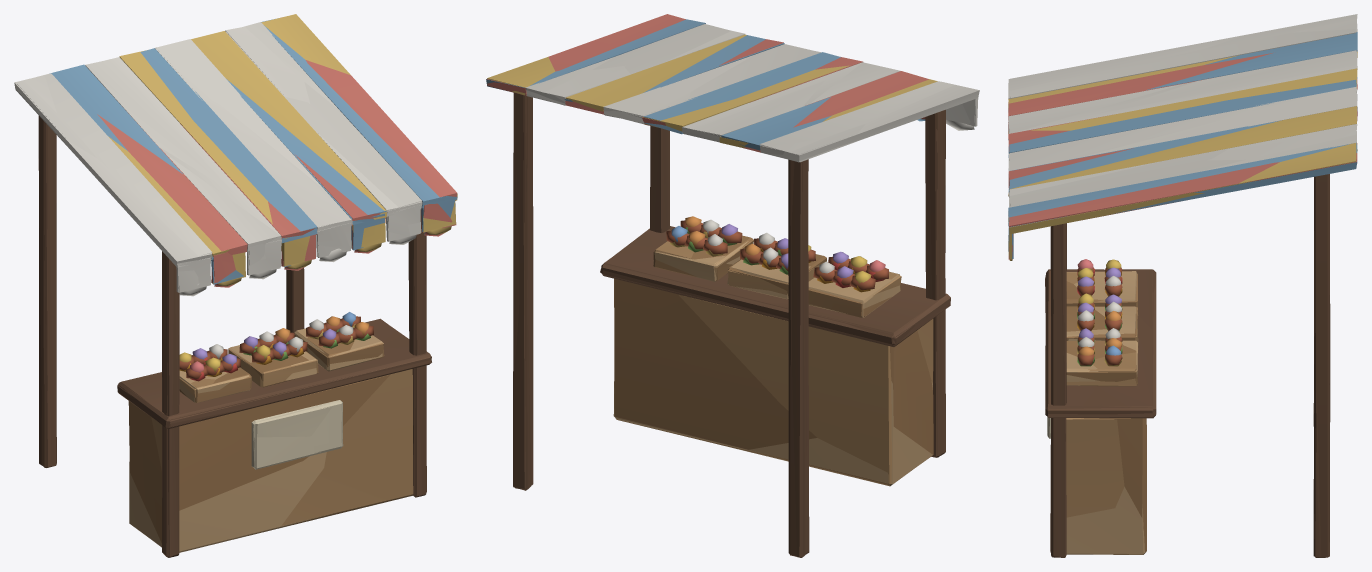
File: market_stall.glb
The picture shows the model from 3 angles, left to right: view 1: azimuth 30°, elevation 25°; view 2: azimuth 150°, elevation 25°; view 3: azimuth 270°, elevation 25°; orthographic projection. The views are drawn at different scales.
Visible parts, largest first — view 1: market_stall.v1.mesh, market_stall.v0.mesh, market_stall.v2.mesh; view 2: market_stall.v1.mesh, market_stall.v0.mesh, market_stall.v2.mesh; view 3: market_stall.v2.mesh, market_stall.v1.mesh, market_stall.v0.mesh.
Boxes of the visible parts, box(x1,y1,x2,y2) form: market_stall.v1.mesh: box(15, 18, 457, 557); market_stall.v0.mesh: box(14, 26, 457, 557); market_stall.v2.mesh: box(38, 14, 457, 557); market_stall.v1.mesh: box(486, 19, 978, 556); market_stall.v0.mesh: box(486, 14, 979, 554); market_stall.v2.mesh: box(487, 31, 975, 557); market_stall.v2.mesh: box(1008, 29, 1357, 557); market_stall.v1.mesh: box(1008, 14, 1357, 557); market_stall.v0.mesh: box(1008, 14, 1357, 557).
Bounding box in the file's own units: 1.91 × 2.44 × 1.91.
